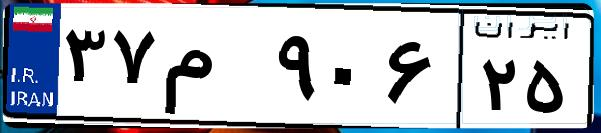0: (330, 28, 385, 110)
2: (475, 38, 525, 113)
3: (57, 26, 110, 100)
5: (525, 38, 570, 115)
6: (385, 28, 445, 110)
7: (110, 28, 158, 98)
9: (270, 28, 330, 110)
م: (158, 20, 270, 120)
